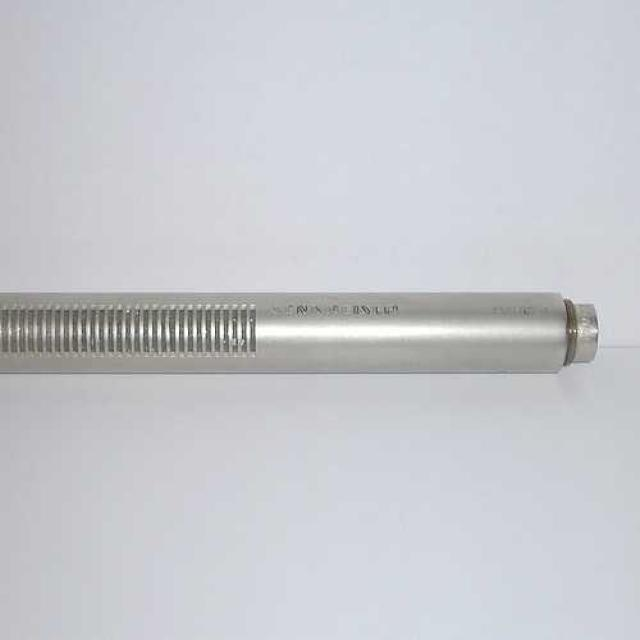microphone: (0, 295, 596, 371)
